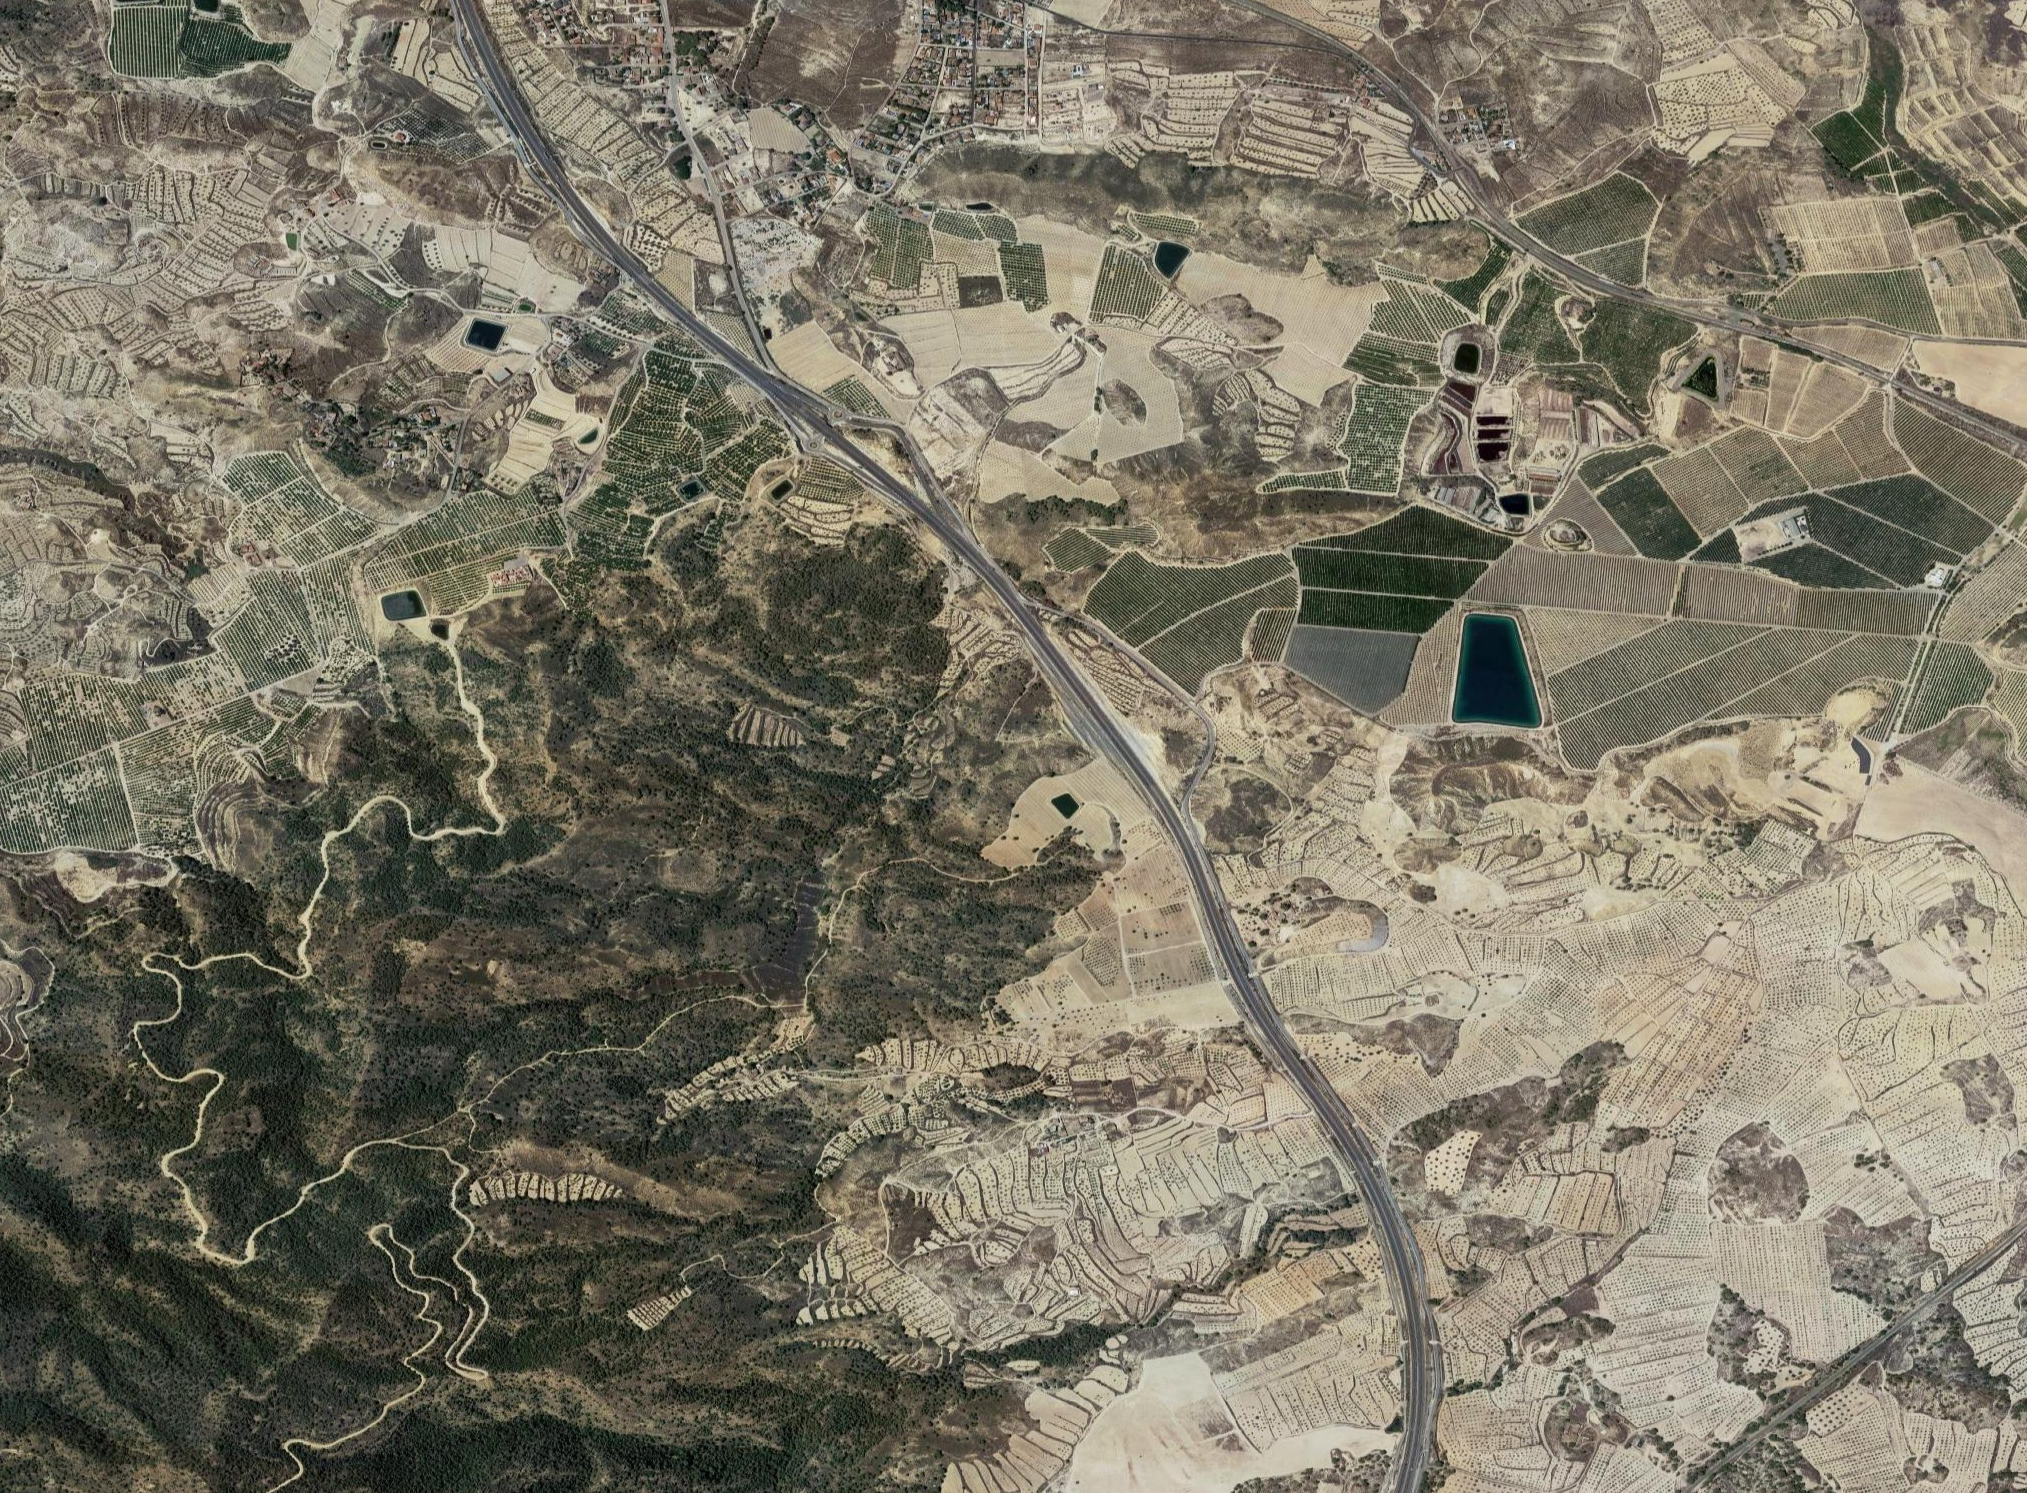motorway: (973, 554, 1220, 886), (1196, 881, 1407, 1238), (452, 2, 691, 308), (683, 305, 973, 554), (1349, 1227, 1459, 1493)
